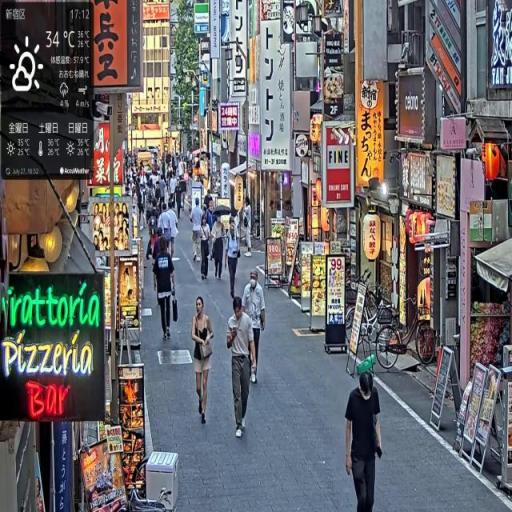person: (344, 367, 385, 512), (227, 296, 257, 445), (192, 296, 217, 428), (242, 269, 267, 385), (153, 236, 178, 344), (225, 219, 243, 306), (211, 214, 228, 281), (199, 212, 213, 281), (192, 199, 204, 264), (243, 196, 255, 258)
